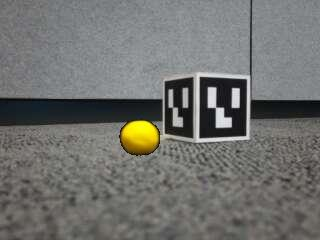lemon: (120, 121, 160, 155)
